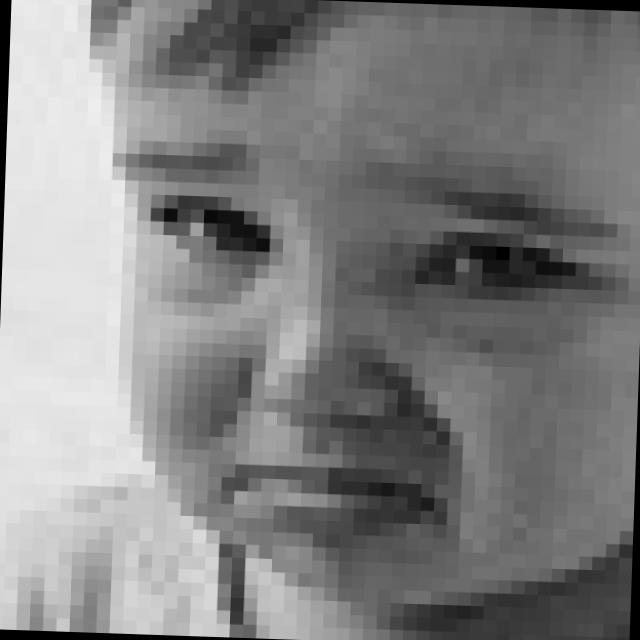sad: (110, 133, 640, 559)
